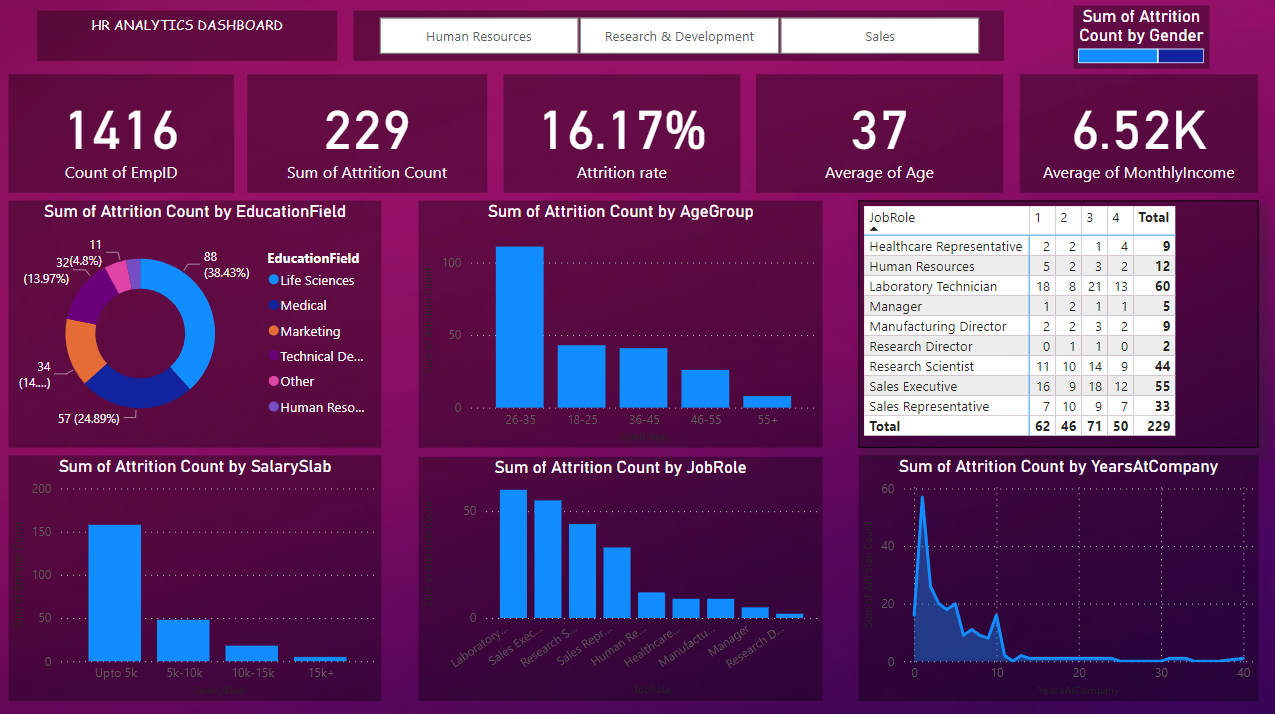

The page's visual inventory and layout, read from the dashboard file:
{"tool":"powerbi","page":{"name":"Page 1","canvas":[1280,720],"ordinal":0},"visuals":[{"type":"card","fields":{"Values":["CountNonNull(HR_Analytics (1).EmpID)"]},"box":[12.9,75.7,225.7,118.6],"z":0},{"type":"card","fields":{"Values":["Sum(HR_Analytics (1).Custom)"]},"box":[251.4,75.7,240,118.6],"z":1000},{"type":"card","fields":{"Values":["Avg(HR_Analytics (1).Age)"]},"box":[760,75.7,247.1,118.6],"z":2000},{"type":"card","fields":{"Values":["HR_Analytics (1).Attrition rate"]},"box":[507.1,75.7,237.1,118.6],"z":3000},{"type":"card","fields":{"Values":["Avg(HR_Analytics (1).MonthlyIncome)"]},"box":[1024.3,75.7,238.6,118.6],"z":4000},{"type":"donutChart","fields":{"Category":["HR_Analytics (1).EducationField"],"Y":["Sum(HR_Analytics (1).Attrition Count)"]},"box":[12.9,202.9,372.9,247.1],"z":5000},{"type":"columnChart","fields":{"Y":["Sum(HR_Analytics (1).Attrition Count)"],"Category":["HR_Analytics (1).SalarySlab"]},"box":[12.9,457.1,372.9,245.7],"z":6000},{"type":"pivotTable","fields":{"Rows":["HR_Analytics (1).JobRole"],"Columns":["HR_Analytics (1).JobSatisfaction"],"Values":["Sum(HR_Analytics (1).Attrition Count)"]},"box":[862.9,202.9,400,247.1],"z":7000},{"type":"columnChart","fields":{"Category":["HR_Analytics (1).AgeGroup"],"Y":["Sum(HR_Analytics (1).Attrition Count)"]},"box":[422.9,202.9,404.3,247.1],"z":8000},{"type":"areaChart","fields":{"Category":["HR_Analytics (1).YearsAtCompany"],"Y":["Sum(HR_Analytics (1).Attrition Count)"]},"box":[862.9,457.1,400,245.7],"z":9000},{"type":"columnChart","fields":{"Category":["HR_Analytics (1).JobRole"],"Y":["Sum(HR_Analytics (1).Attrition Count)"]},"box":[422.9,458.6,404.3,244.3],"z":10000},{"type":"treemap","fields":{"Values":["Sum(HR_Analytics (1).Attrition Count)"],"Group":["HR_Analytics (1).Gender"]},"box":[1077.1,7.1,135.7,62.9],"z":12000},{"type":"slicer","fields":{"Values":["HR_Analytics (1).Department"]},"box":[357.1,12.9,650,50],"z":13000},{"type":"textbox","box":[41.4,12.9,300,50],"z":14000}]}

Visuals, with their boxes in screenshot pixels (x1, y1, x2, y2), scaled from the page's 1280x720 canvas onto the 1275x714 screenshot:
card - CountNonNull(HR_Analytics (1).EmpID): region(13, 75, 238, 193)
card - Sum(HR_Analytics (1).Custom): region(250, 75, 489, 193)
card - Avg(HR_Analytics (1).Age): region(757, 75, 1003, 193)
card - HR_Analytics (1).Attrition rate: region(505, 75, 741, 193)
card - Avg(HR_Analytics (1).MonthlyIncome): region(1020, 75, 1258, 193)
donutChart - HR_Analytics (1).EducationField x Sum(HR_Analytics (1).Attrition Count): region(13, 201, 384, 446)
columnChart - Sum(HR_Analytics (1).Attrition Count) x HR_Analytics (1).SalarySlab: region(13, 453, 384, 697)
pivotTable - HR_Analytics (1).JobRole x HR_Analytics (1).JobSatisfaction: region(860, 201, 1258, 446)
columnChart - HR_Analytics (1).AgeGroup x Sum(HR_Analytics (1).Attrition Count): region(421, 201, 824, 446)
areaChart - HR_Analytics (1).YearsAtCompany x Sum(HR_Analytics (1).Attrition Count): region(860, 453, 1258, 697)
columnChart - HR_Analytics (1).JobRole x Sum(HR_Analytics (1).Attrition Count): region(421, 455, 824, 697)
treemap - Sum(HR_Analytics (1).Attrition Count) x HR_Analytics (1).Gender: region(1073, 7, 1208, 69)
slicer - HR_Analytics (1).Department: region(356, 13, 1003, 62)
textbox: region(41, 13, 340, 62)
